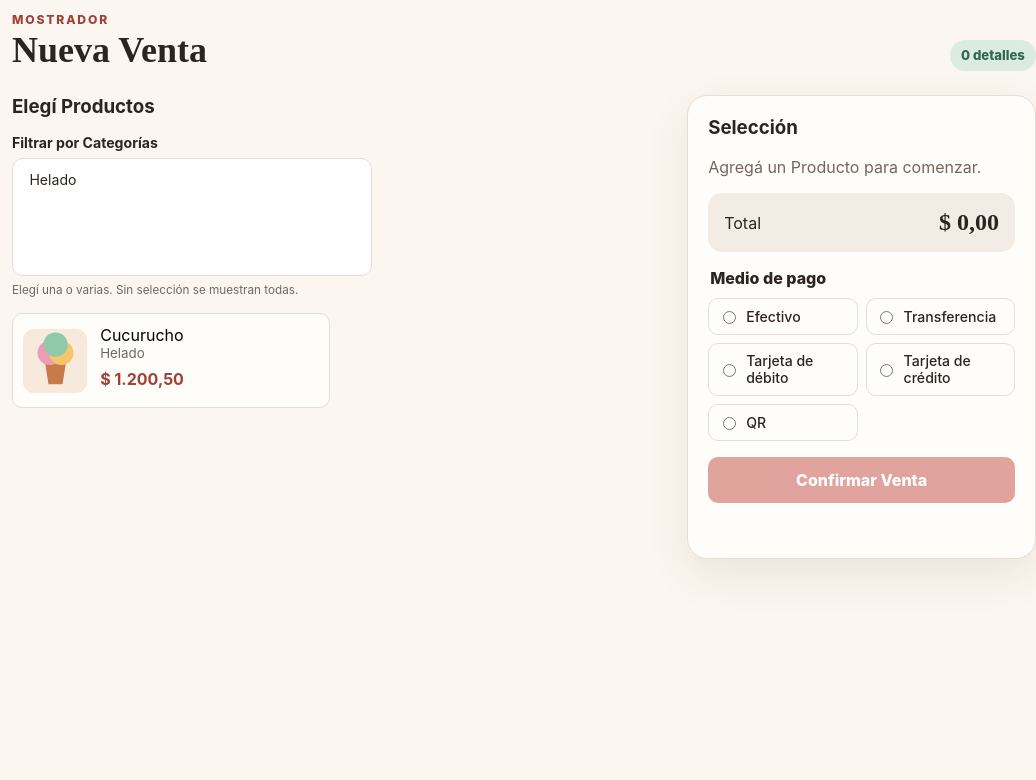
it: armado y confirmación de una Venta › conserva Productos repetidos como detalles y limpia solo tras respuesta autoritativa
Click the button with aria-label "Agregar Cucurucho". click: (55, 361)
box: [12,313,330,408]
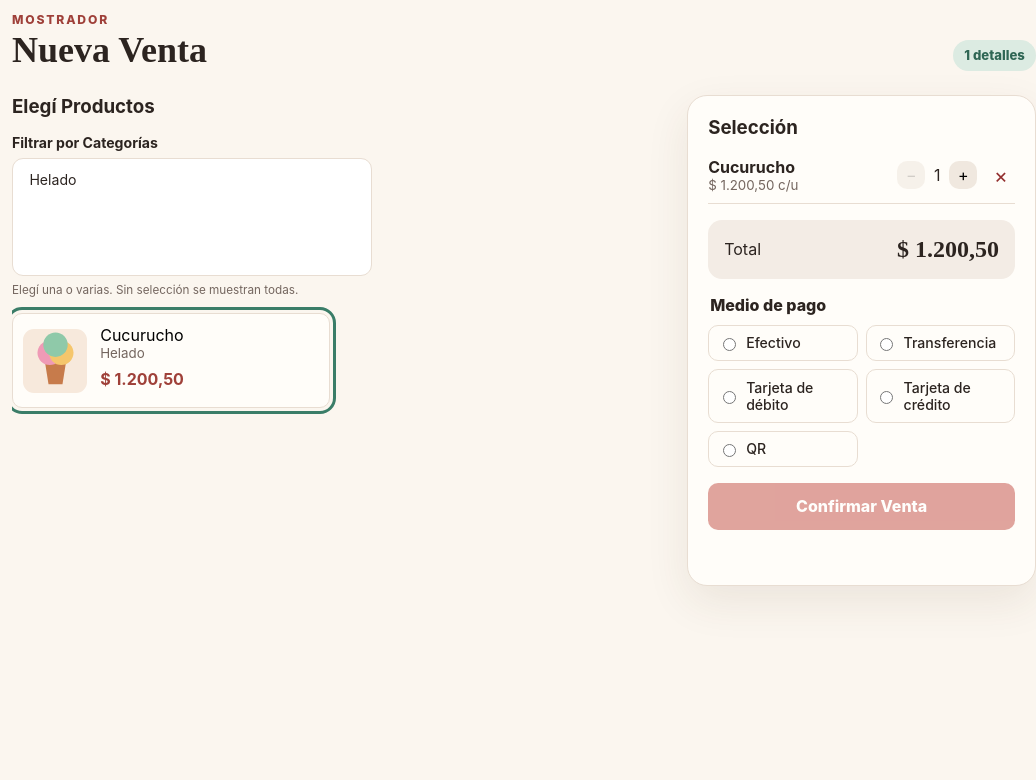
Click the button with aria-label "Agregar Cucurucho". click: (55, 361)
box: [12,313,330,408]
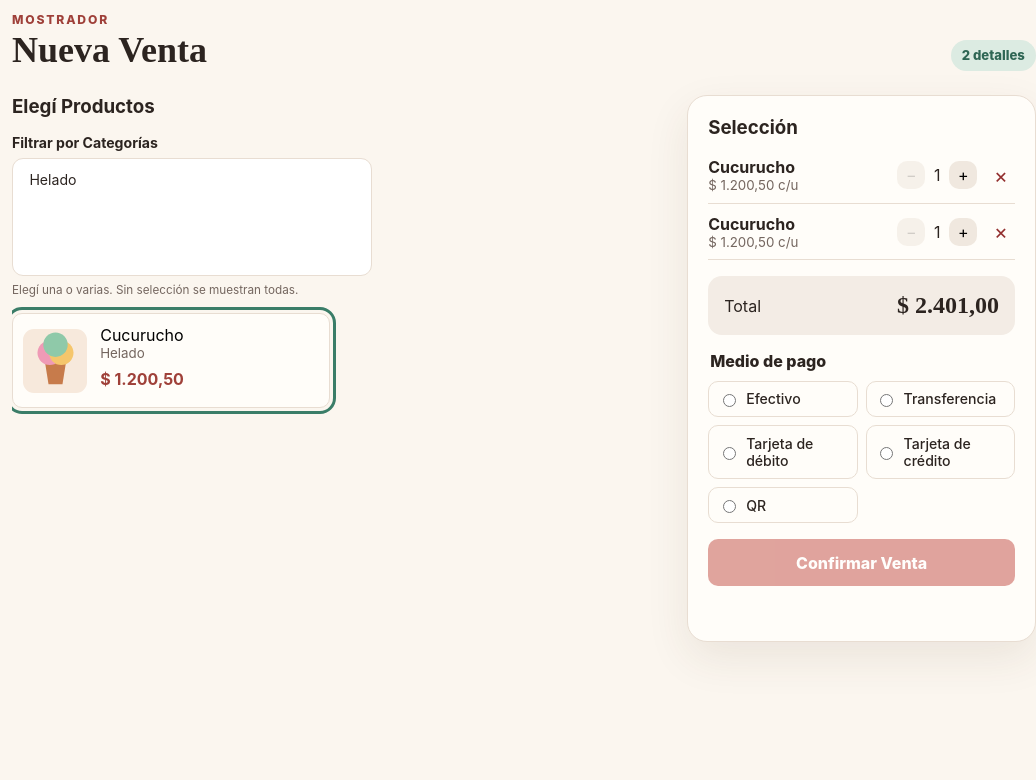
Expected: the text "Cucurucho" is shown 3 times, [100,325,184,361]; [708,157,795,177]; [708,214,795,234]
Expected: the text "$ 2.401,00" is shown, [897,292,999,319]
Click the radio button labelled "QR". click: (730, 507)
box: [723,500,736,513]
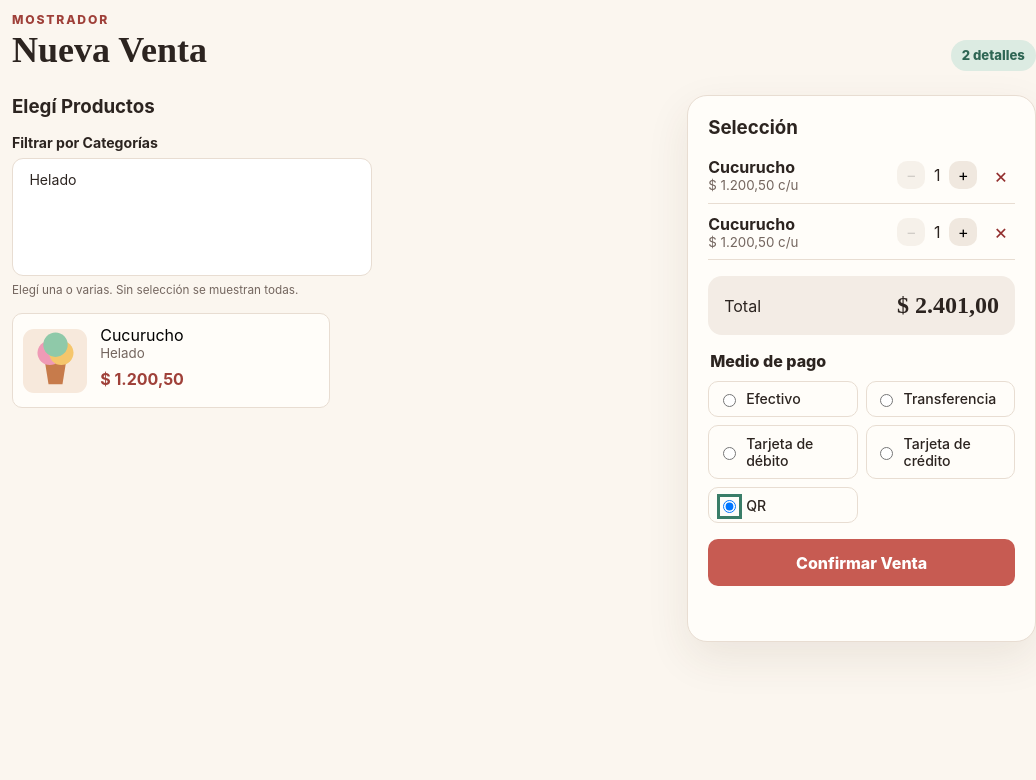
Click the button "Confirmar Venta". click: (862, 563)
box: [708,540,1015,586]
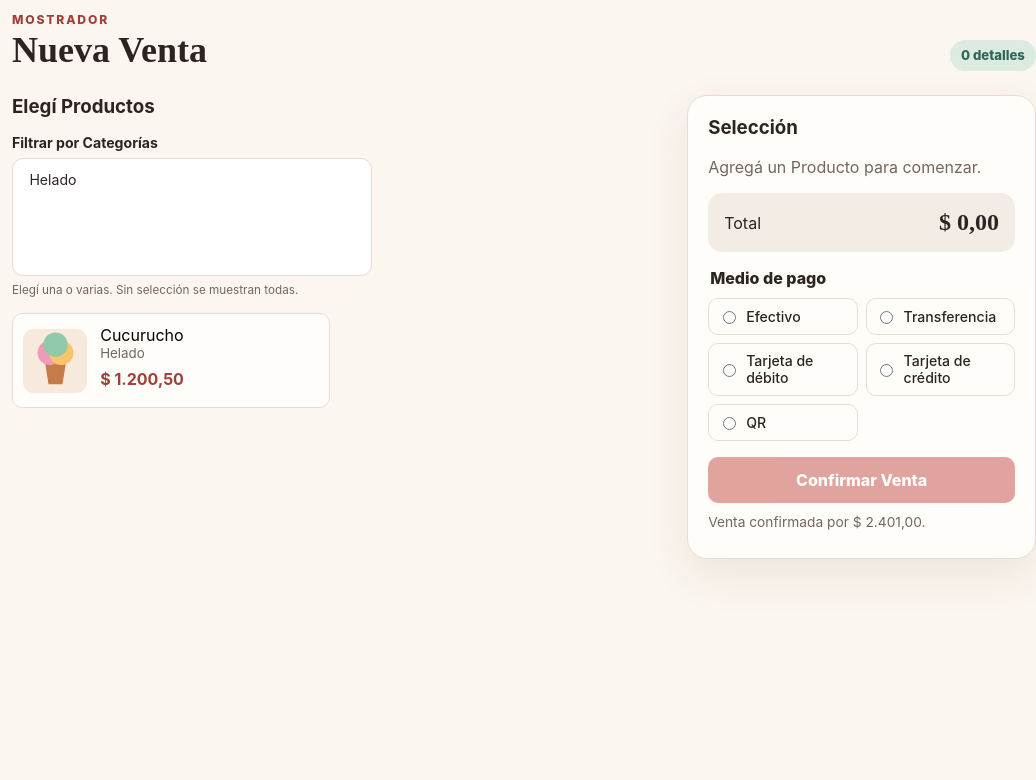
Expected: the text "Agregá un Producto para comenzar." is shown, [708,157,1015,177]
